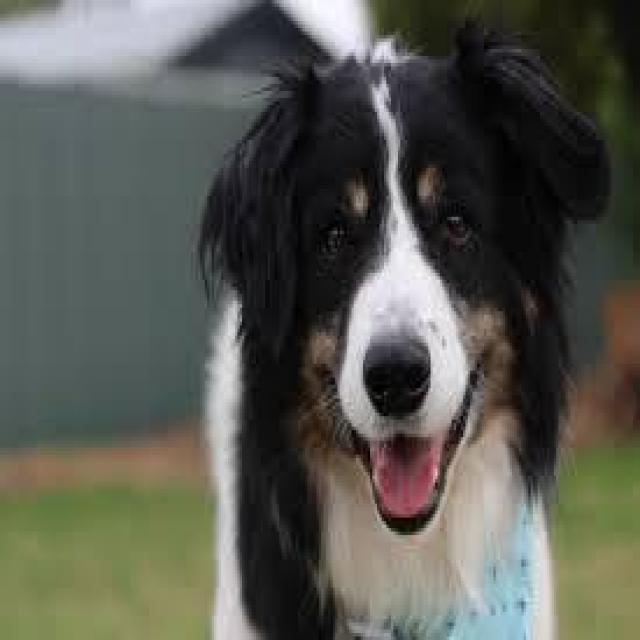Dog: (198, 41, 622, 554)
